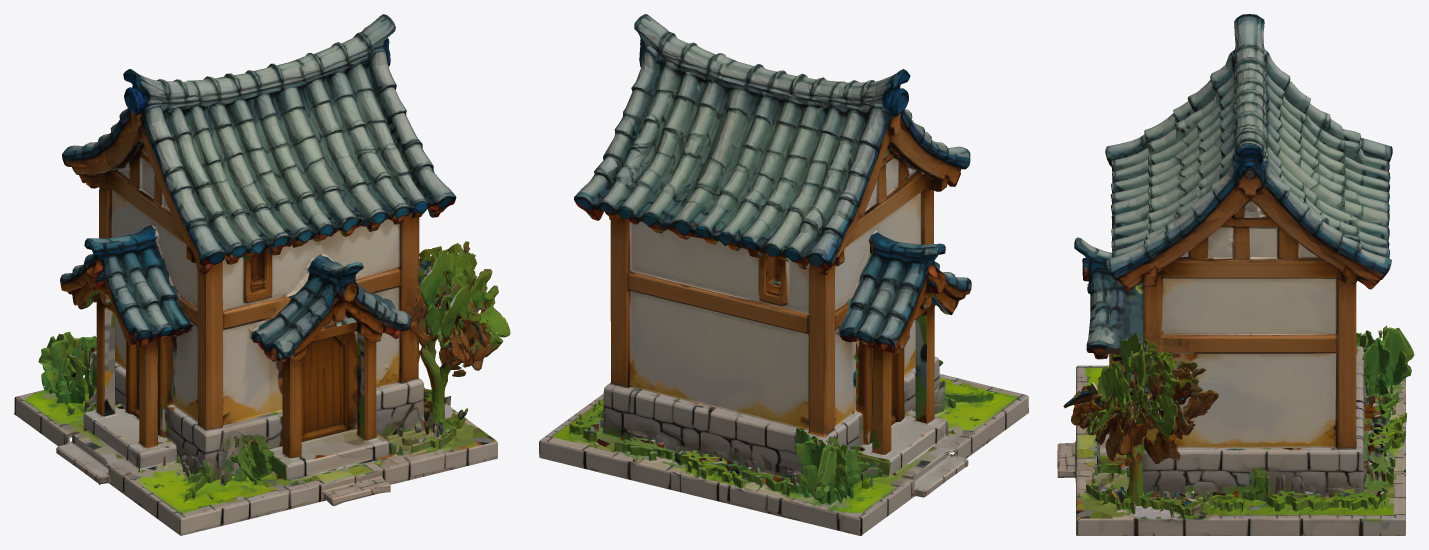
File: garden-timber-home.glb
3 views of the same model, side by side, from view 1: azimuth 30°, elevation 25°; view 2: azimuth 150°, elevation 25°; view 3: azimuth 270°, elevation 25° (orthographic). The views are drawn at different scales.
Visible parts, largest first — view 1: textured; view 2: textured; view 3: textured.
Boxes of the visible parts, x1,y1,x2,y2 form: textured: (14,14,510,535); textured: (539,14,1028,535); textured: (1057,14,1414,535).
Bounding box in the file's own units: 8.17 × 8.54 × 7.12.
1 material, 1 textured.
